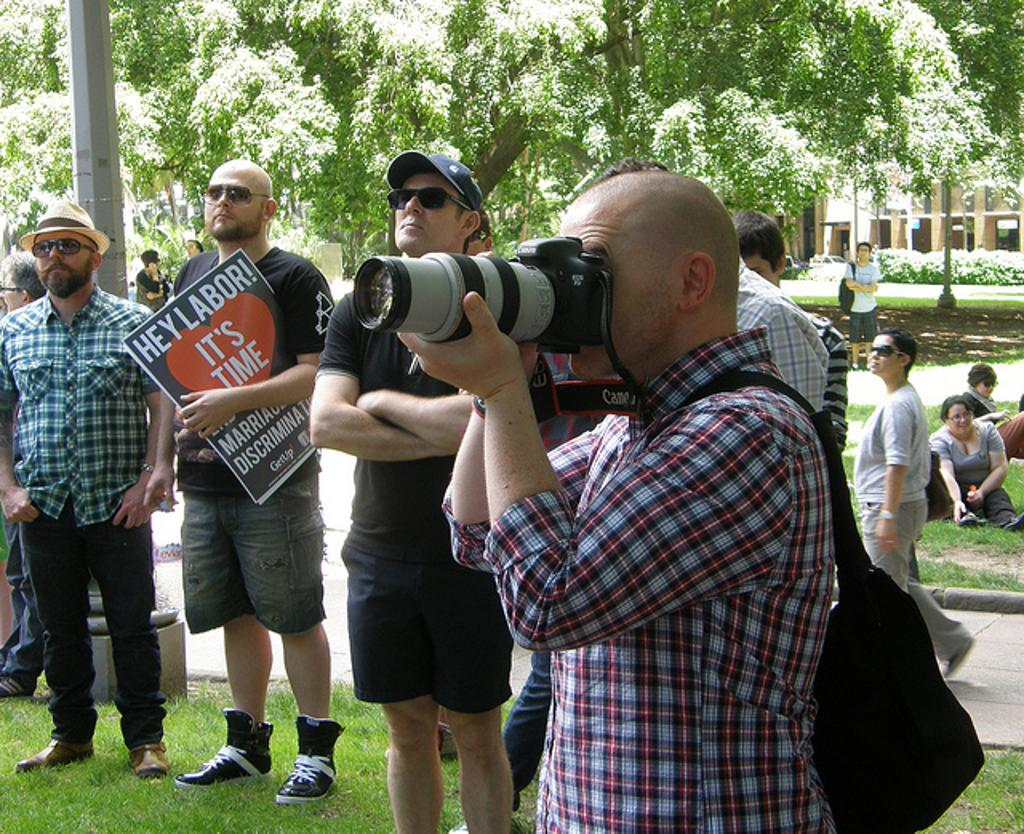face: (550, 199, 667, 379), (395, 174, 460, 249), (204, 165, 260, 238), (36, 234, 91, 295), (731, 241, 772, 297), (3, 273, 30, 312), (868, 334, 895, 372), (949, 406, 971, 434), (975, 376, 995, 396), (856, 244, 869, 260)
